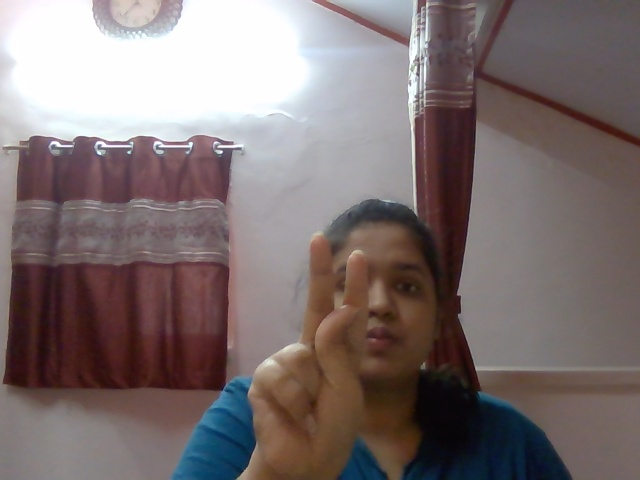k: (238, 222, 381, 465)
